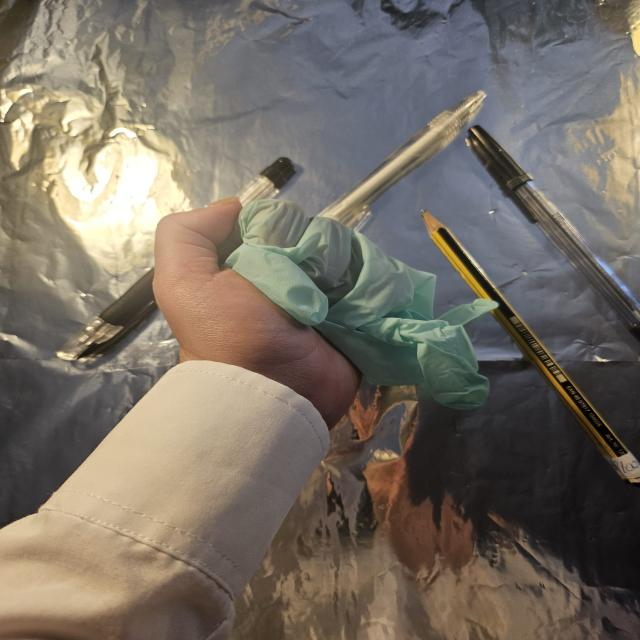glove_partial: (151, 196, 503, 430)
